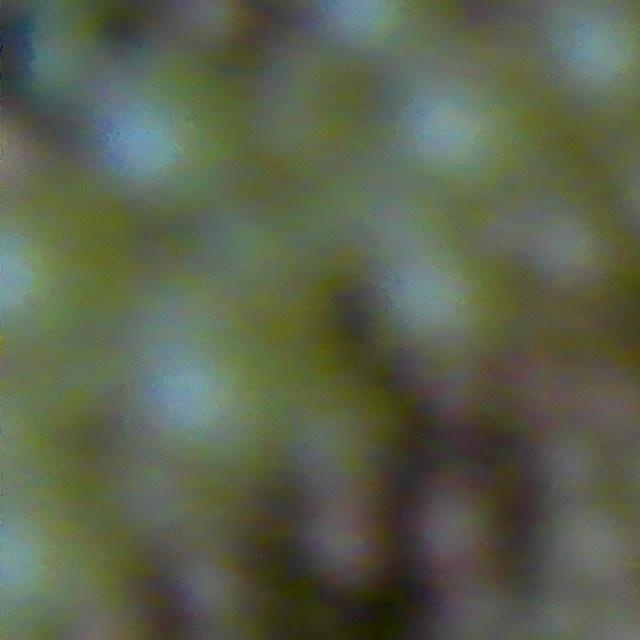SeaGrape: (93, 81, 228, 221), (390, 70, 514, 190), (545, 4, 640, 109), (411, 482, 502, 571), (308, 499, 399, 588)
